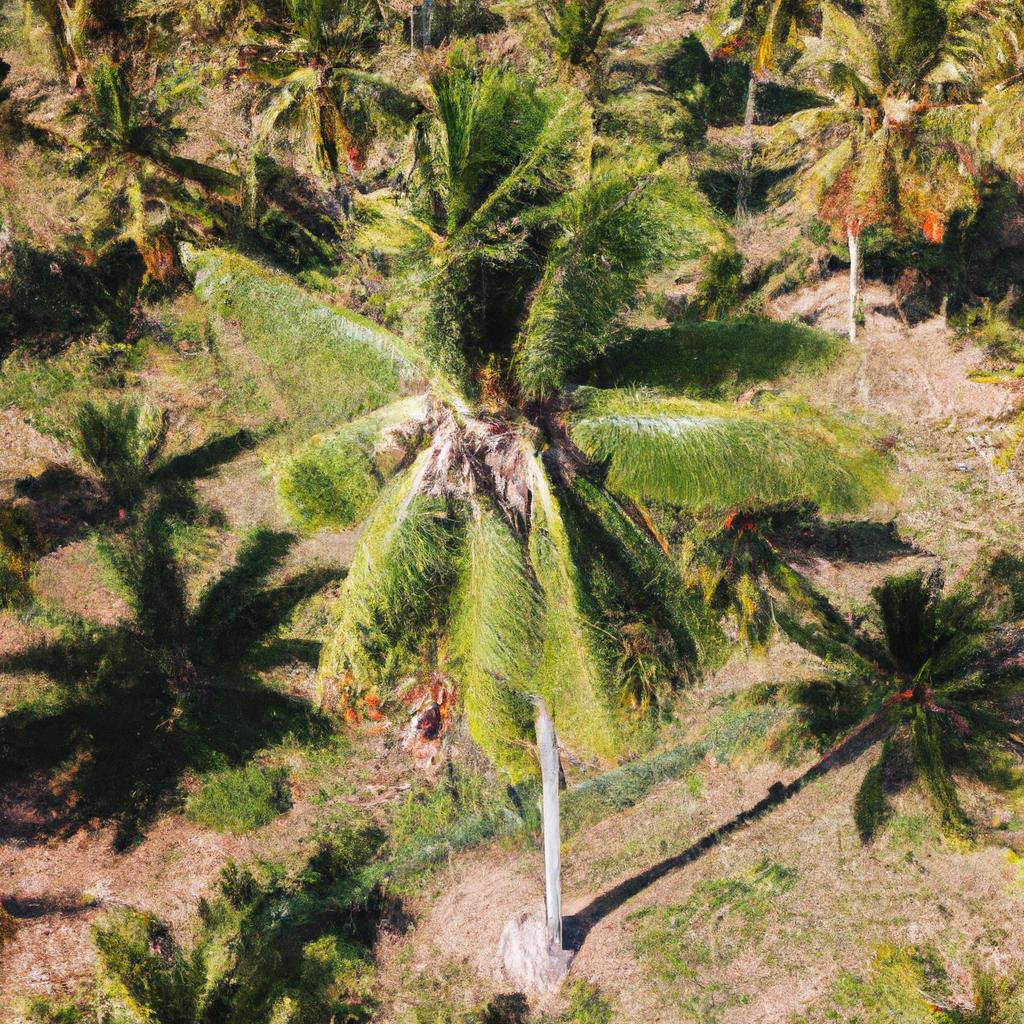coconut_tree: (203, 53, 868, 789)
